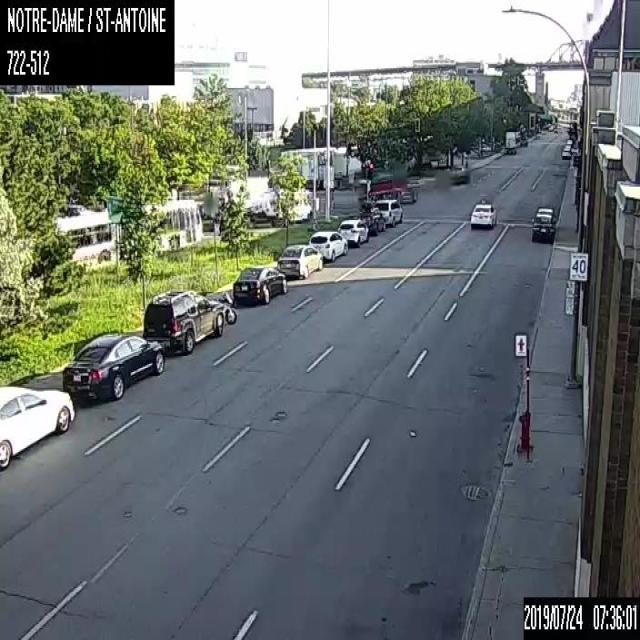bus: (57, 198, 203, 262)
vehicle: (62, 332, 164, 398), (0, 387, 75, 469), (144, 290, 223, 354), (354, 174, 418, 208), (233, 264, 286, 304), (277, 242, 322, 276), (309, 230, 347, 261), (208, 292, 236, 326), (373, 198, 402, 227), (338, 218, 368, 246), (469, 202, 496, 230), (531, 212, 555, 243), (359, 209, 384, 234), (503, 128, 527, 152), (451, 165, 470, 182), (535, 206, 555, 222), (561, 146, 571, 158)
